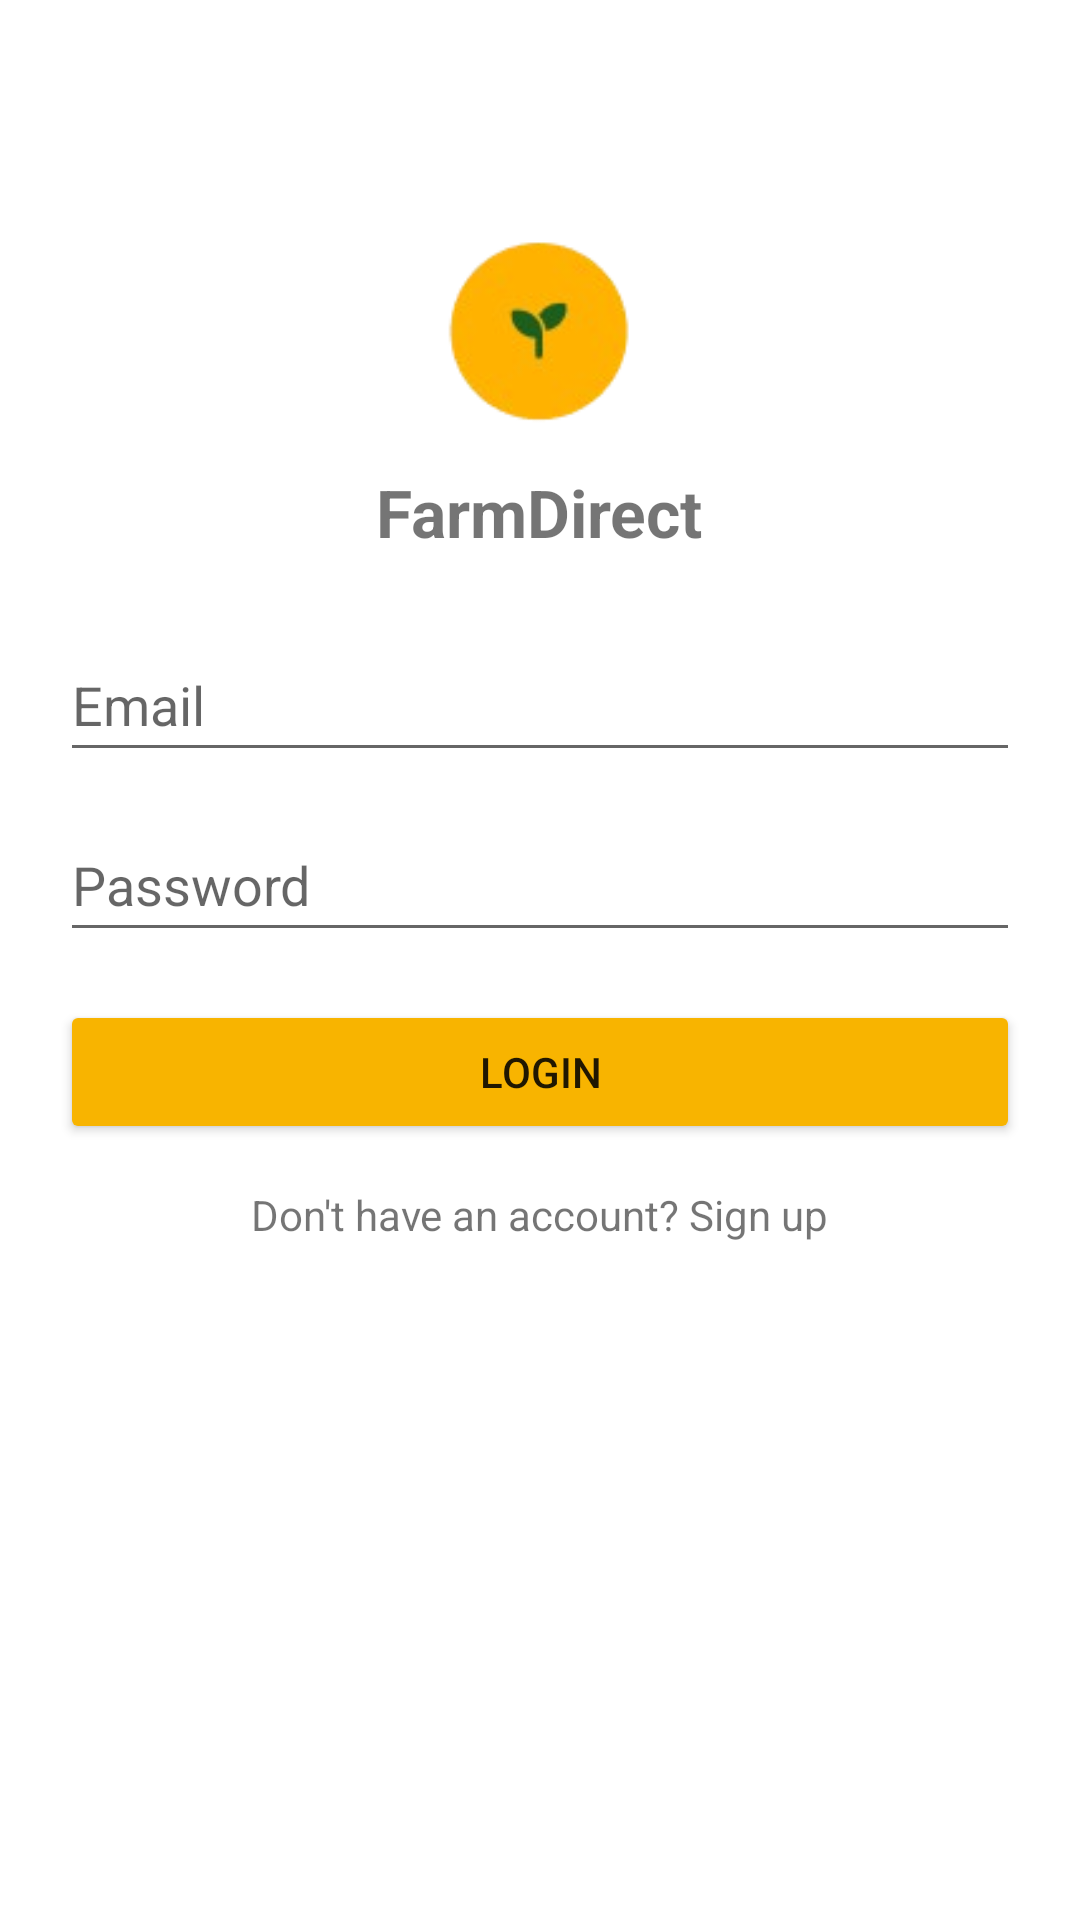

Where to tap for icons on this 1080*1920 app screen, as point (x, y):
seed: point (539, 331)
